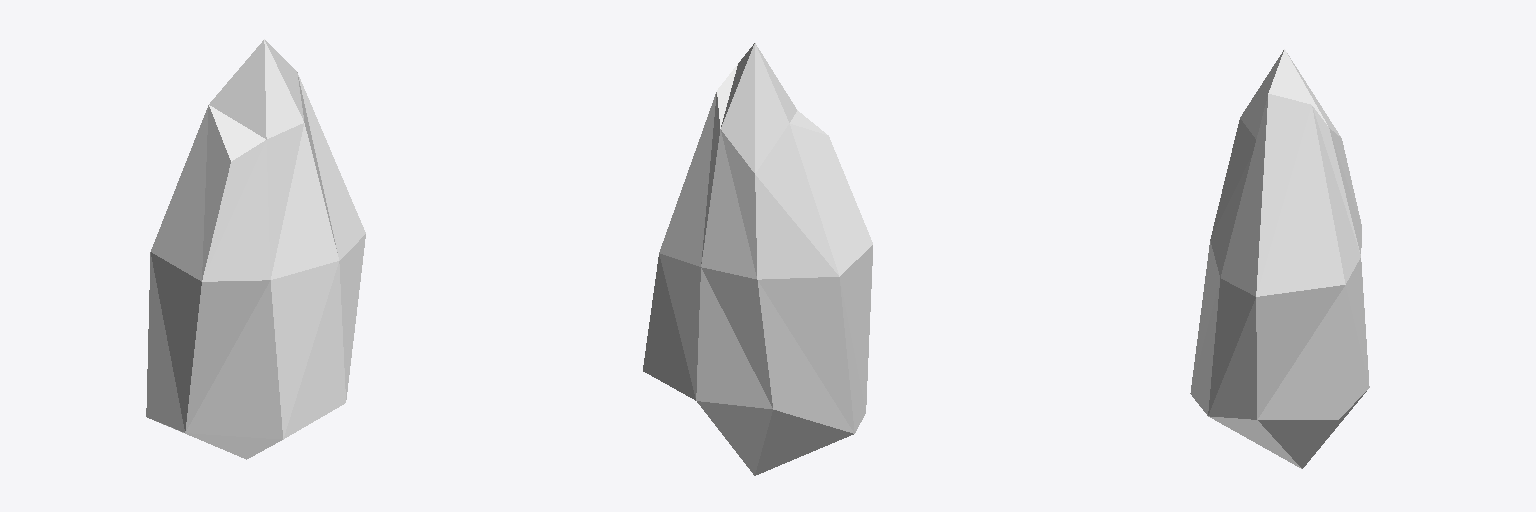
Rendered from FlamePlume.obj.
3 renders of one model, left to right at view 1: azimuth 30°, elevation 25°; view 2: azimuth 150°, elevation 25°; view 3: azimuth 270°, elevation 25°, orthographic.
Parts seen in each view (by area): view 1: FlamePlume; view 2: FlamePlume; view 3: FlamePlume.
Boxes of the visible parts, box(x1,y1,x2,y2) form: FlamePlume: box(146, 39, 365, 459); FlamePlume: box(643, 43, 872, 475); FlamePlume: box(1190, 49, 1369, 468).
Size of the model in its own units: 1.42 by 2.94 by 1.12.